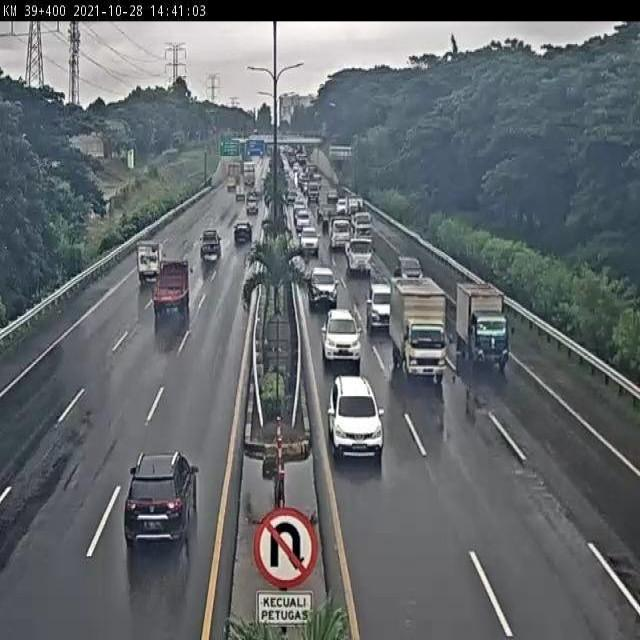car: (123, 449, 198, 548), (326, 374, 385, 462), (322, 308, 363, 367), (309, 265, 339, 308), (367, 281, 392, 332), (395, 255, 425, 284), (199, 226, 223, 258)
mid truck: (389, 274, 448, 382), (151, 257, 192, 312)
small truck: (456, 282, 508, 369), (137, 237, 166, 280)
